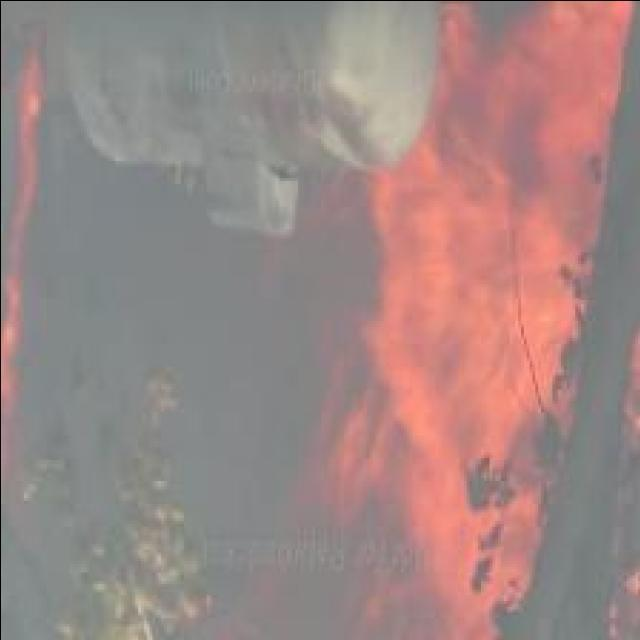Fire: (252, 0, 640, 640)
